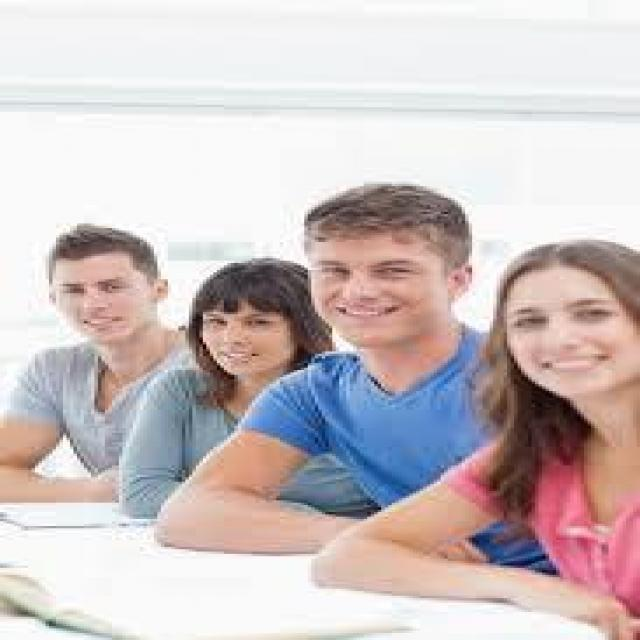person: (426, 210, 636, 628), (286, 182, 489, 516), (7, 200, 182, 531), (140, 240, 325, 530)
